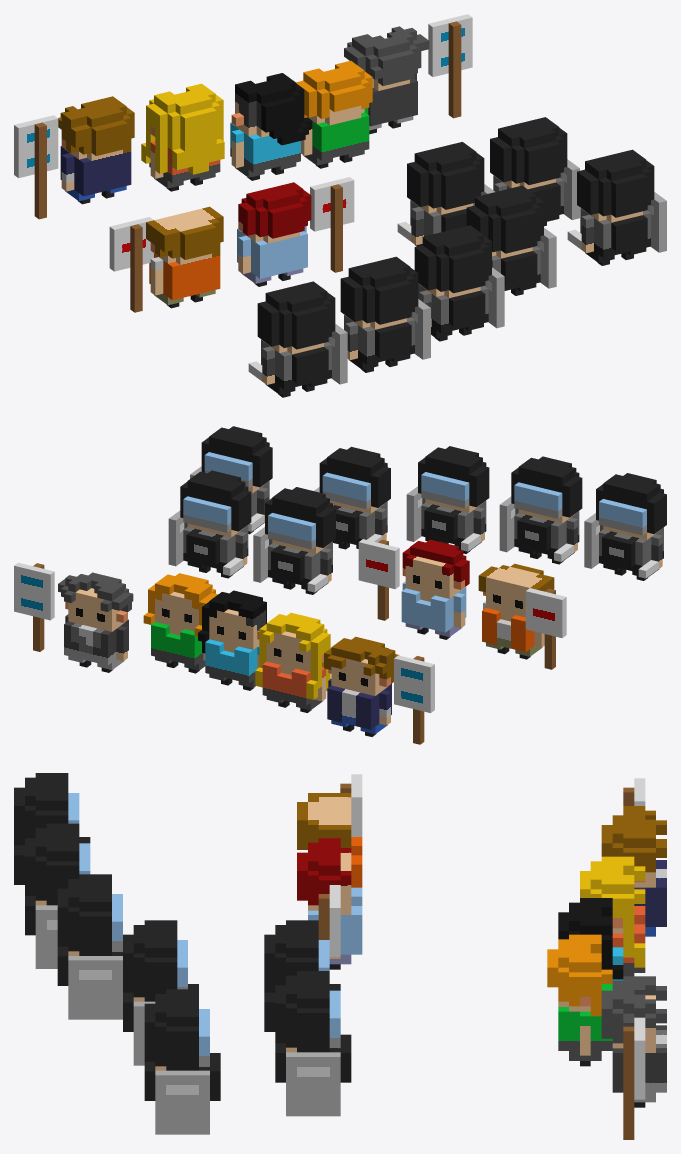
File: scene_protest.fbx
3 views of the same model, one above another, from view 1: azimuth 30°, elevation 25°; view 2: azimuth 150°, elevation 25°; view 3: azimuth 270°, elevation 25° (orthographic). The views are drawn at different scales.
Parts seen in each view (by area): view 1: scene_protest; view 2: scene_protest; view 3: scene_protest.
Boxes of the visible parts, box(x1,y1,x2,y2) form: scene_protest: box(14, 14, 666, 397); scene_protest: box(14, 426, 666, 744); scene_protest: box(14, 773, 666, 1139).
Bounding box in the file's own units: 6 × 6 × 1.2.
1 material, 1 textured.
